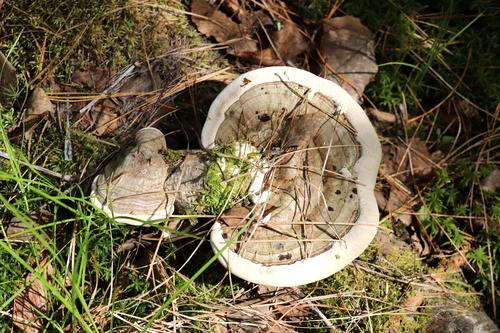Ganoderma - Fruit Body: (197, 64, 384, 293), (89, 125, 177, 229)
